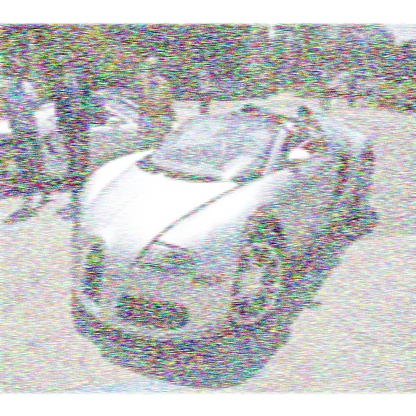Vehicle: (72, 104, 377, 351)
